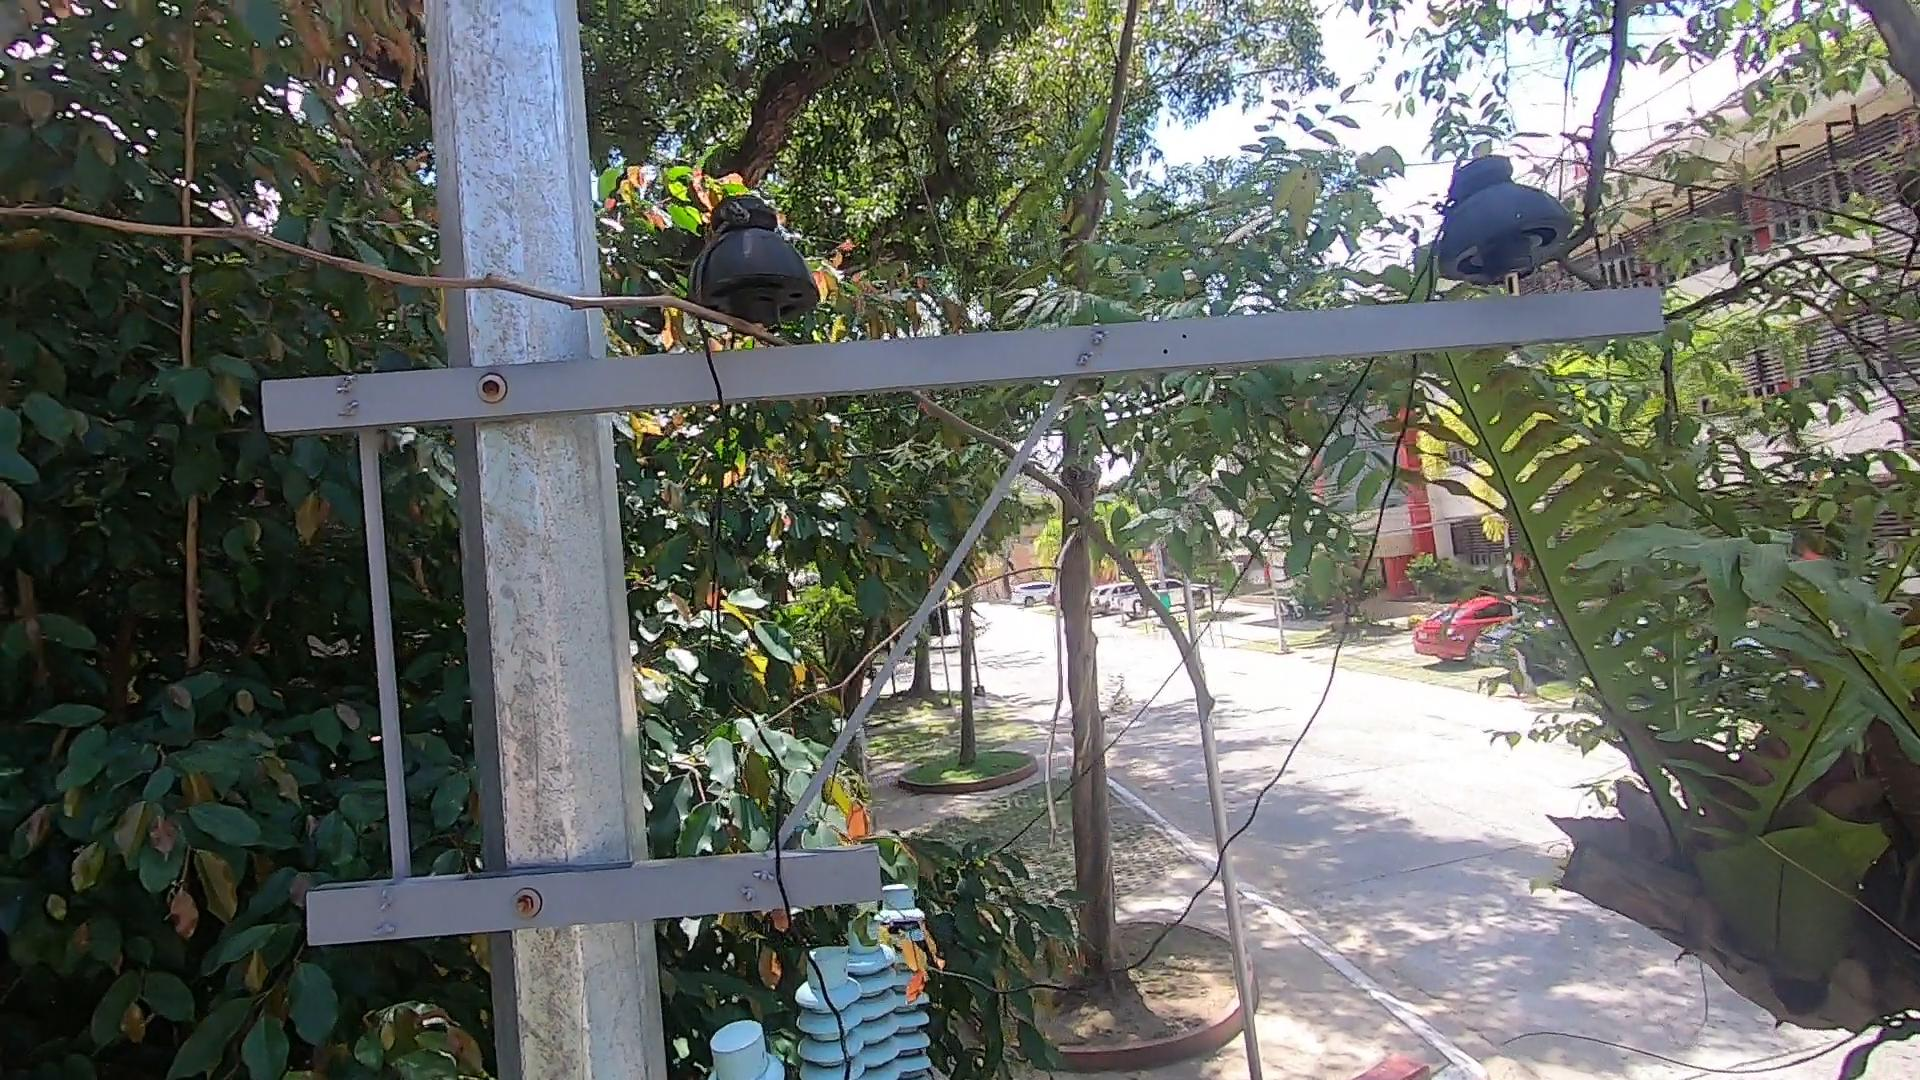leaf: (858, 915, 934, 1005)
tree branch: (1, 170, 1241, 688)
